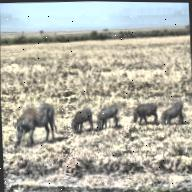boar: (12, 102, 58, 148), (159, 102, 186, 126), (96, 104, 119, 131), (131, 103, 158, 126), (70, 108, 93, 134)
